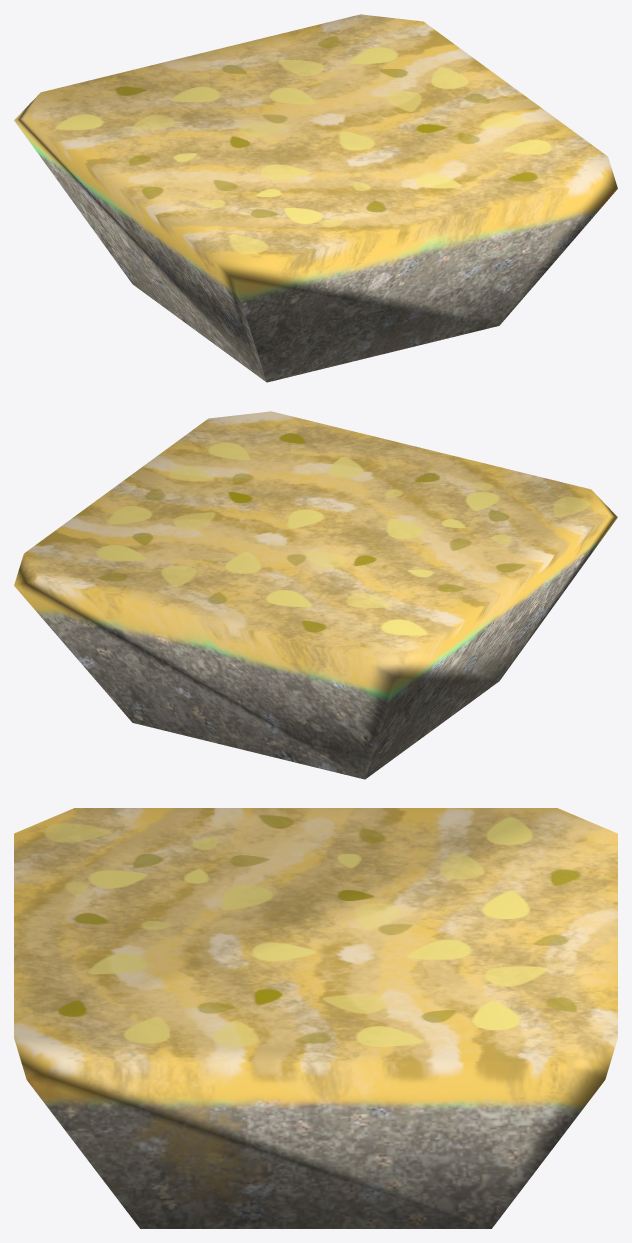
The model's file is desert_Field.fbx.
3 renders of one model, top to bottom at view 1: azimuth 30°, elevation 25°; view 2: azimuth 150°, elevation 25°; view 3: azimuth 270°, elevation 25°, orthographic. The views are drawn at different scales.
Parts seen in each view (by area): view 1: pCube1; view 2: pCube1; view 3: pCube1.
Part boxes in pixels (x1,y1,x2,y2): pCube1: [14, 14, 617, 382]; pCube1: [14, 411, 617, 779]; pCube1: [14, 808, 617, 1228].
Size of the model in its own units: 50 by 20 by 50.
